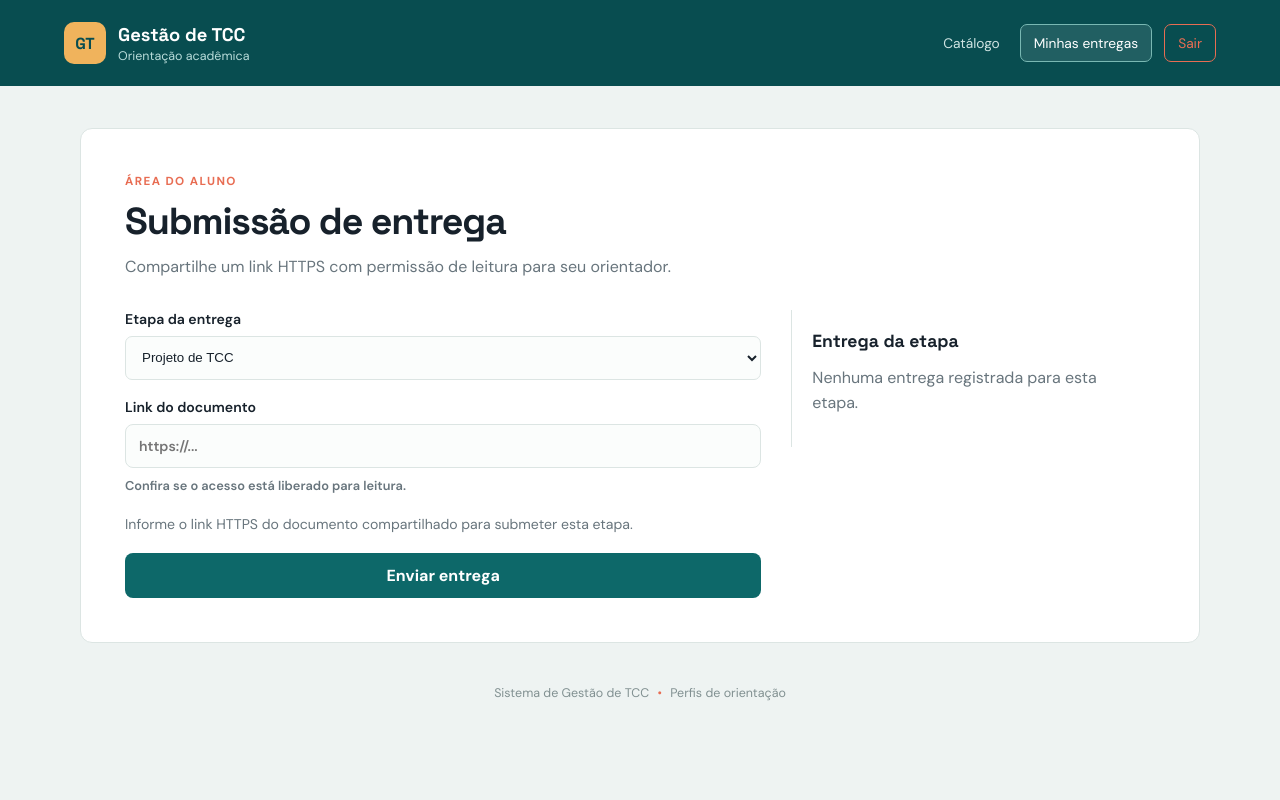
Test: SubmissaoEntregaPage › exibe mensagem apropriada quando o backend retorna 403
The image size is (1280, 800).
In the field labelled "Link do documento": (443, 446) [125, 424, 761, 468], type "https://documento.exemplo/tcc"
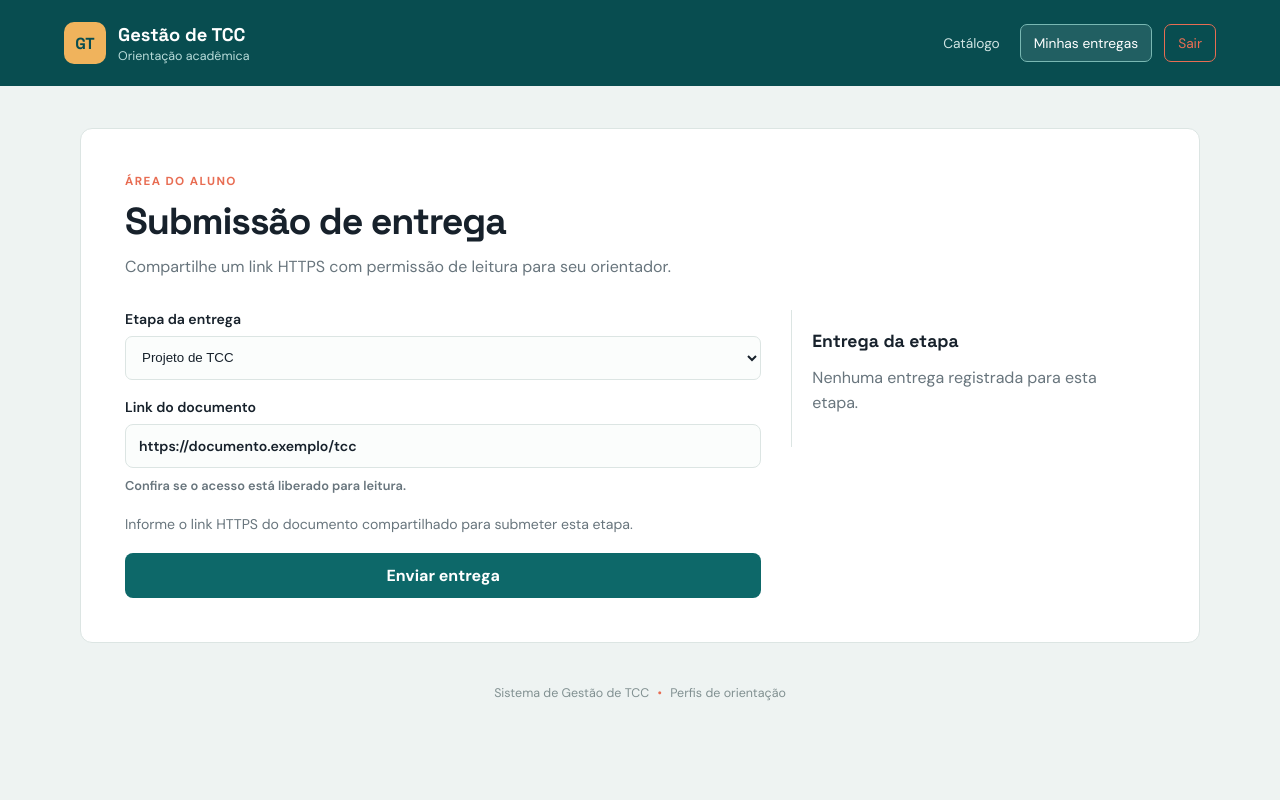
Click the button "Enviar entrega": click(443, 576) [125, 553, 761, 598]
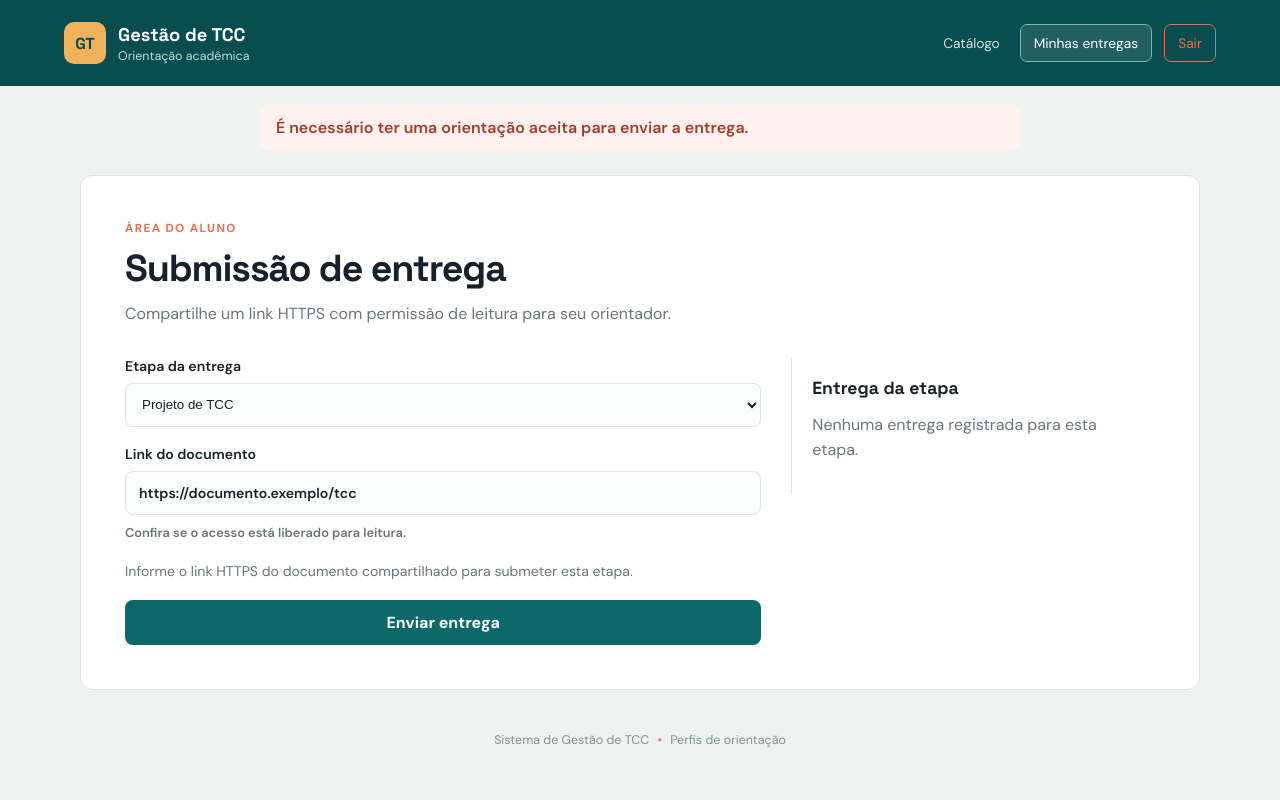
Now the text "É necessário ter uma orientação aceita para enviar a entrega." is shown, box [260, 104, 1020, 151]
